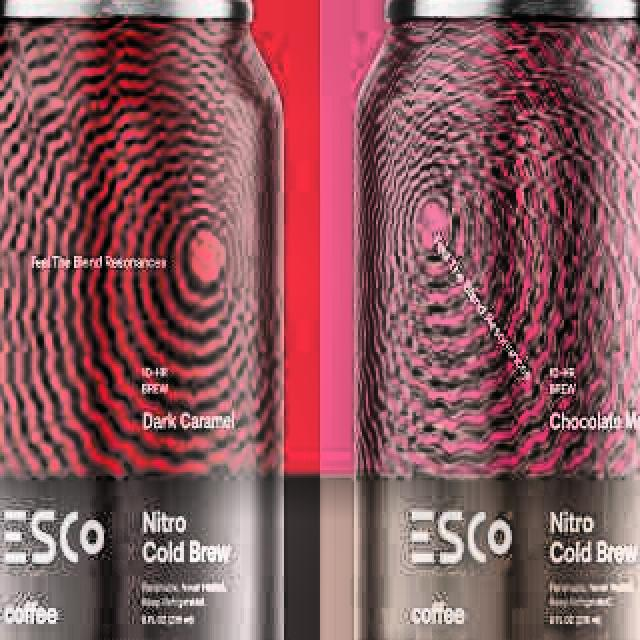metal: (0, 0, 302, 640), (348, 0, 640, 640)
